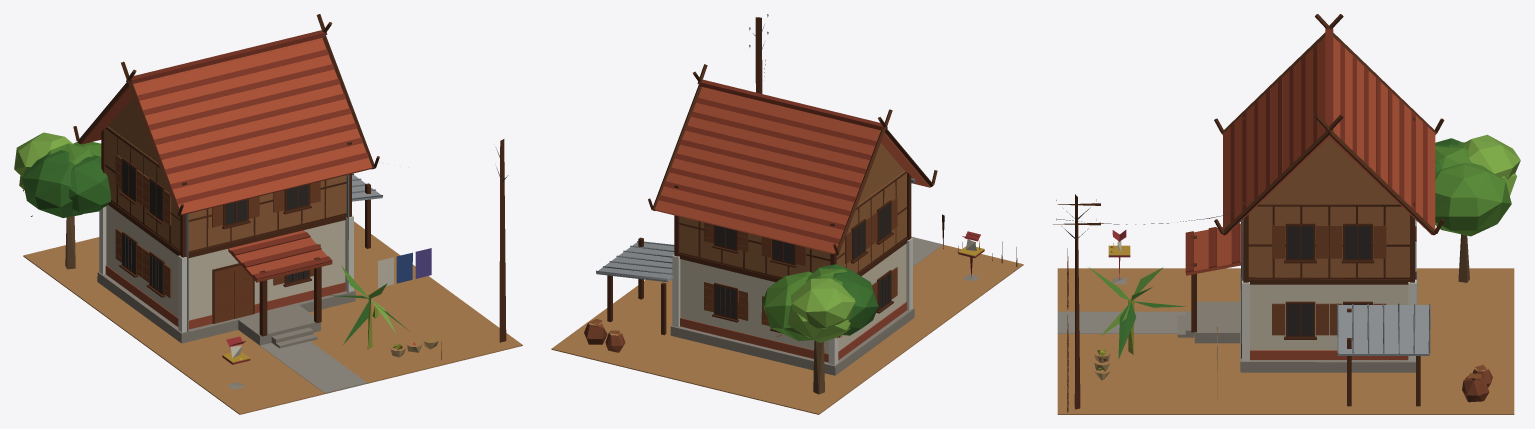
The model's file is house12_1.glb.
3 views of the same model, side by side, from view 1: azimuth 30°, elevation 25°; view 2: azimuth 150°, elevation 25°; view 3: azimuth 270°, elevation 25° (orthographic). The views are drawn at different scales.
Visible parts, largest first — view 1: body, windows; view 2: body, windows; view 3: body, windows.
Part boxes in pixels (box(x1,y1,x2,y2)): body: box(14, 14, 522, 414); windows: box(122, 160, 308, 292); body: box(551, 14, 1023, 414); windows: box(715, 202, 890, 318); body: box(1053, 14, 1520, 414); windows: box(1287, 226, 1370, 335).
Bounding box in the file's own units: 13.09 × 10.19 × 16.32.
